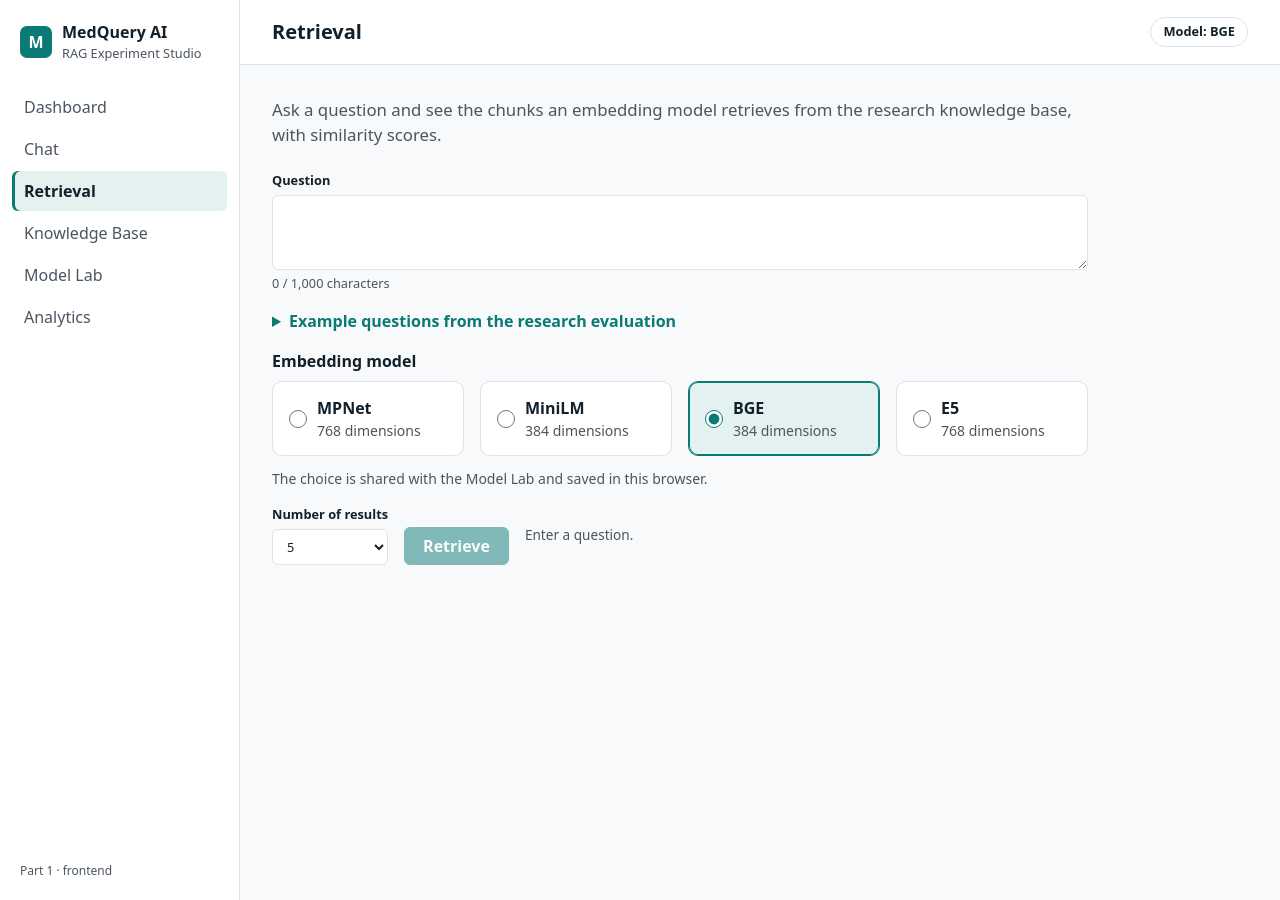
Test: Retrieval address and requests › aborts an older search when a new one starts, and ignores its late answer
The image size is (1280, 900).
Type "What are the symptoms of asthma?" into the text box labelled "Question" at (680, 232), box [272,195,1088,270]
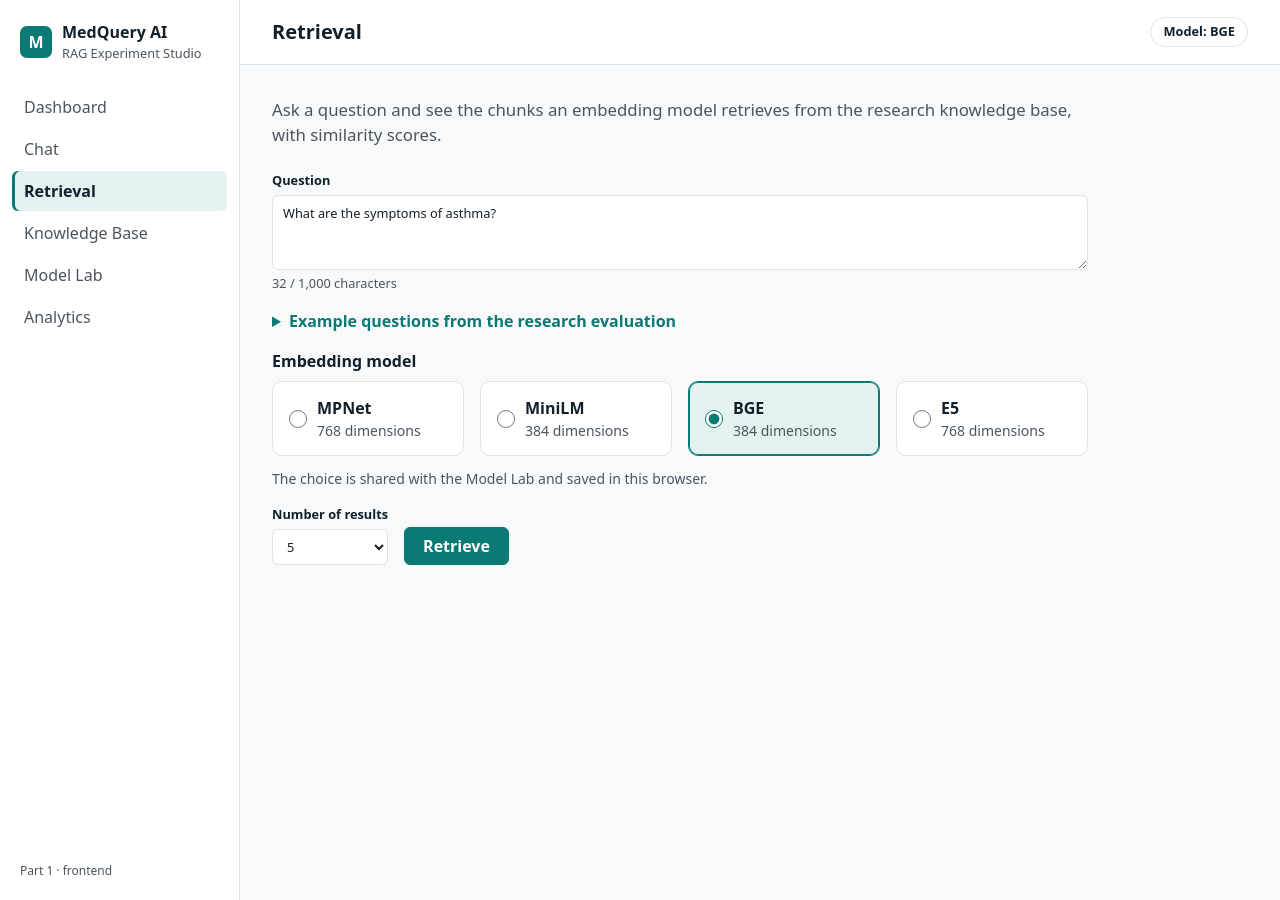
Click the button "Retrieve" at (456, 546), box [404,526,509,564]
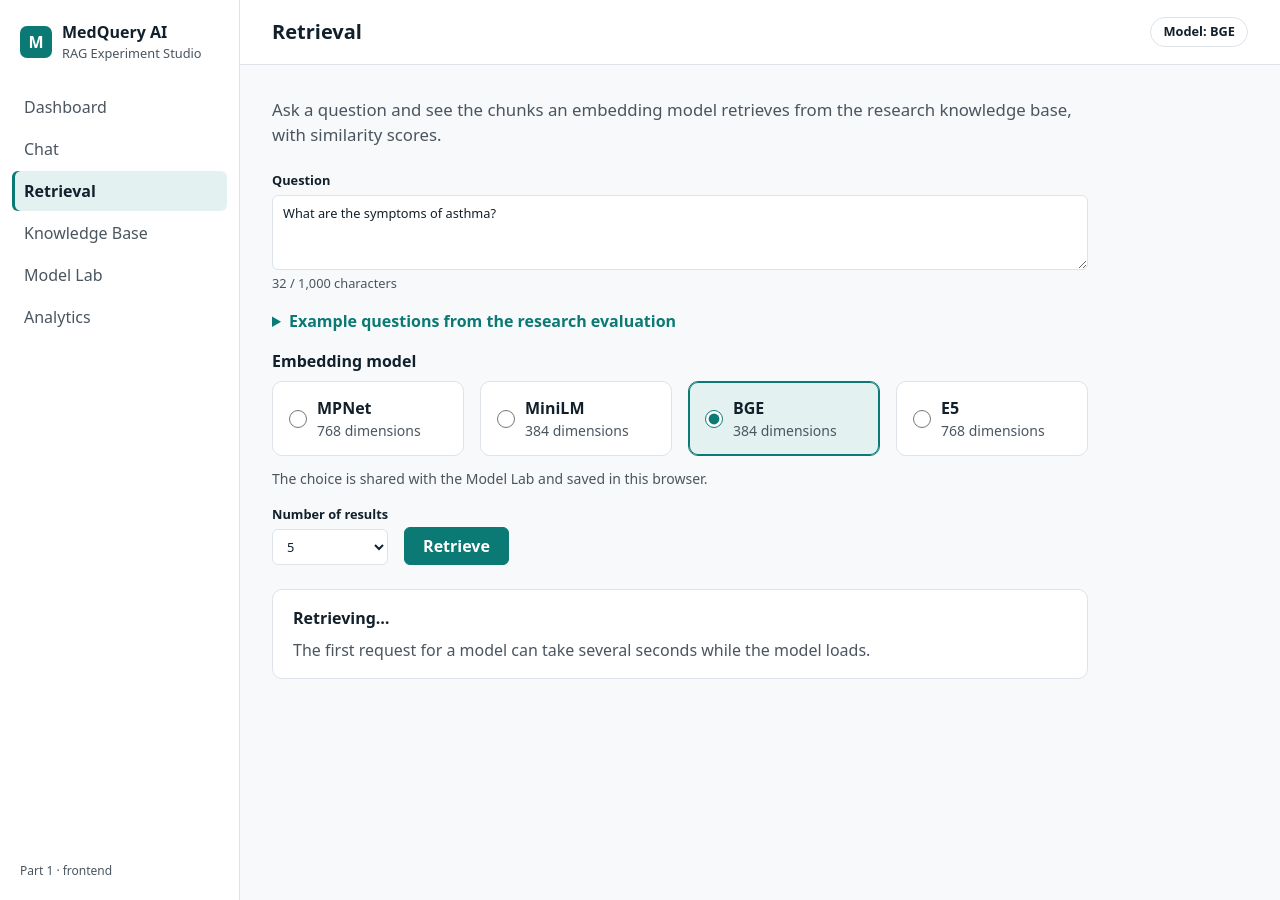
Replace the text in the text box labelled "Question" with "What are the symptoms of hives?" at (680, 232), box [272,195,1088,270]
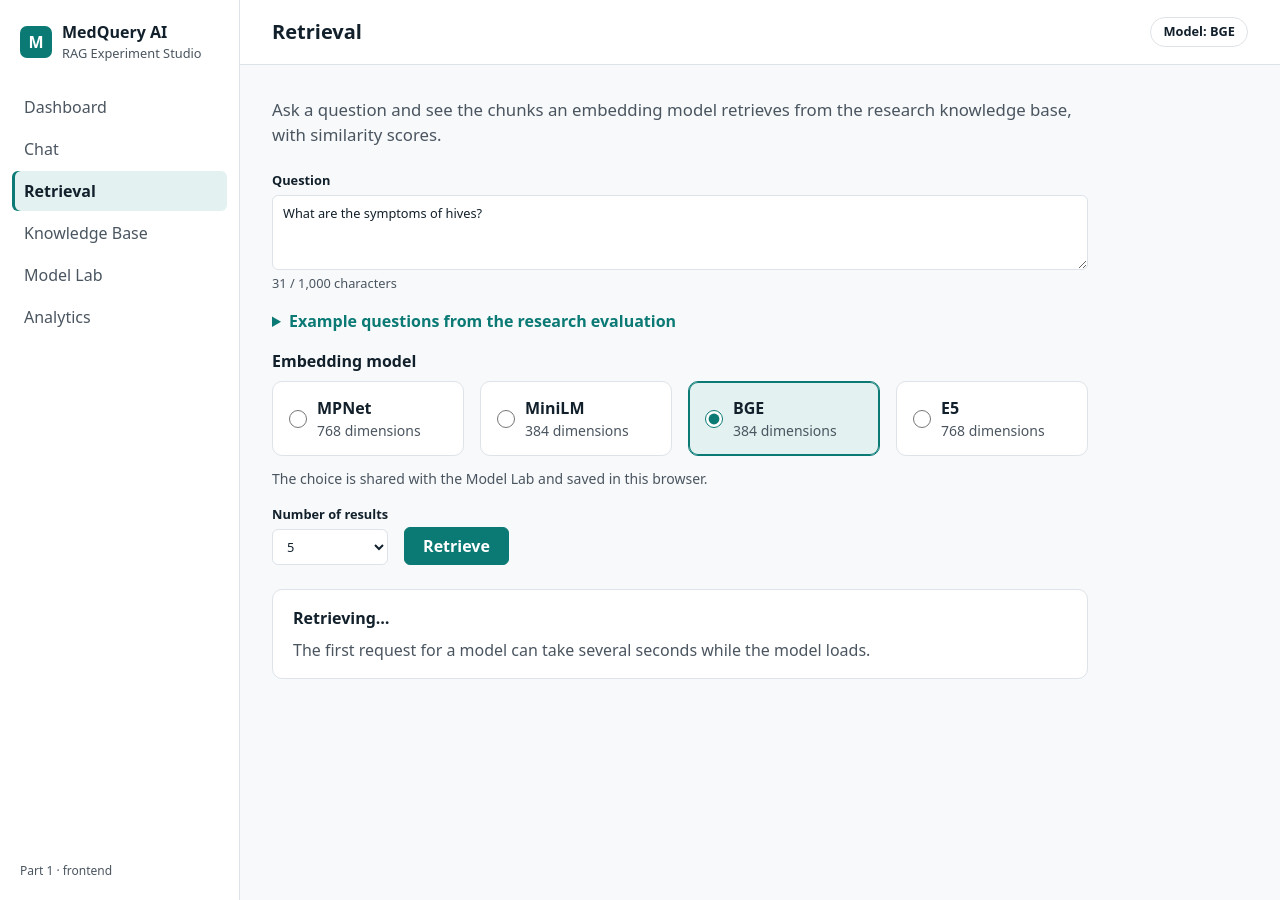
Click the button "Retrieve" at (456, 546), box [404,526,509,564]
(page scrolled)
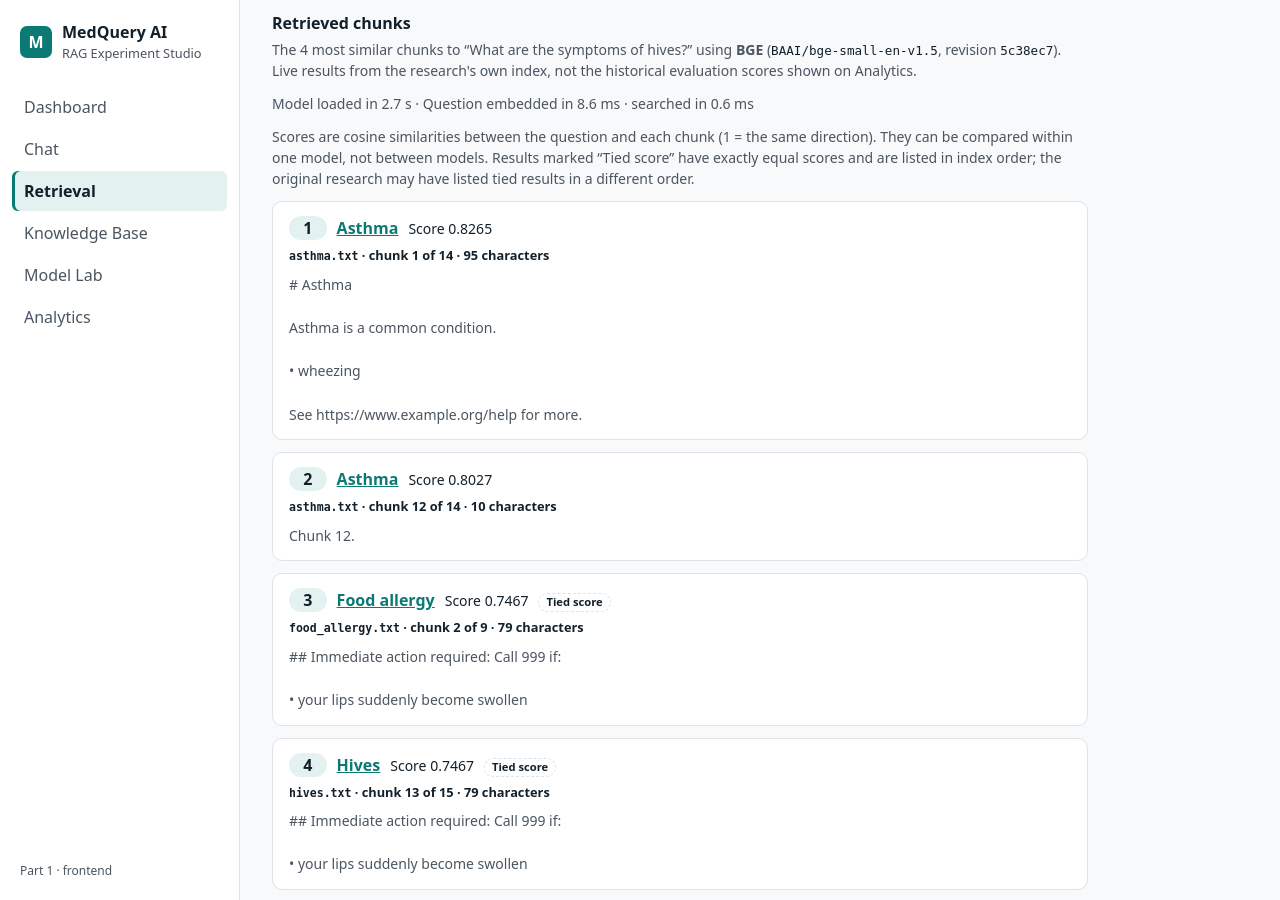
Now the element "Retrieved chunks" shows "“What are the symptoms of hives?”"
